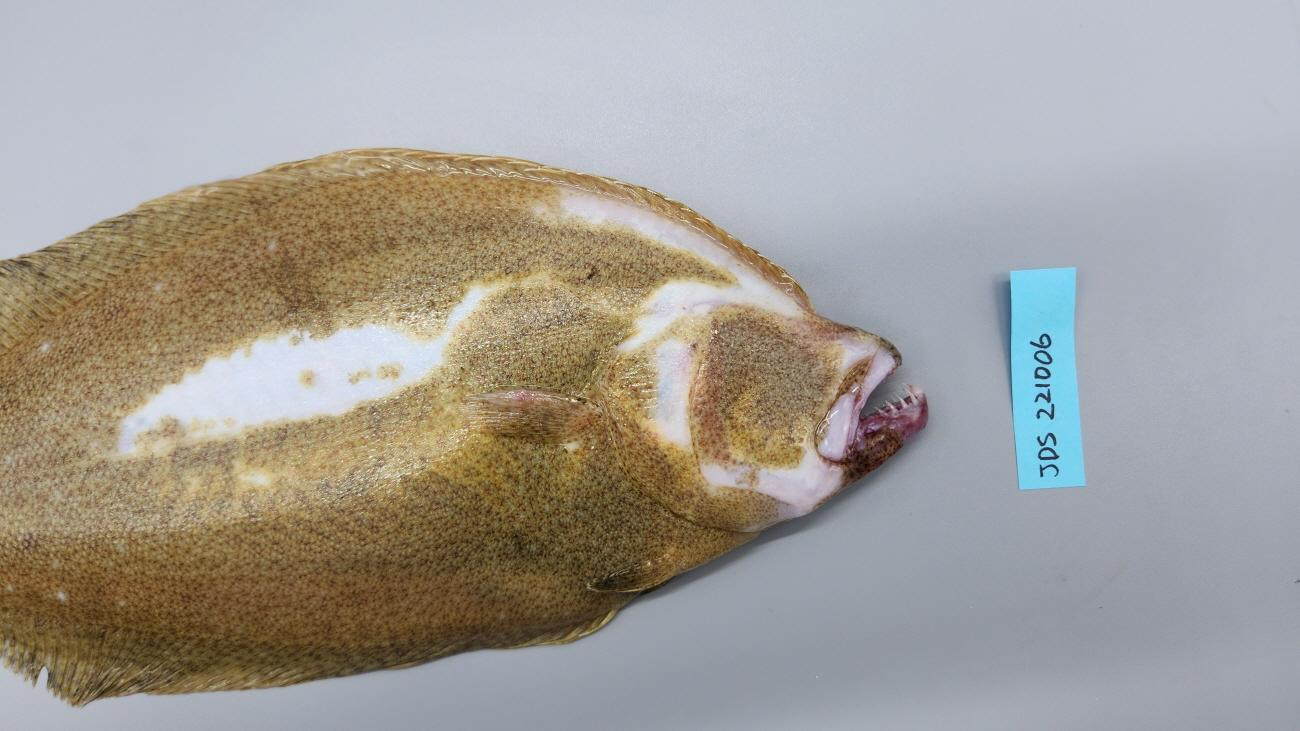VIMOU: (815, 336, 926, 462)
